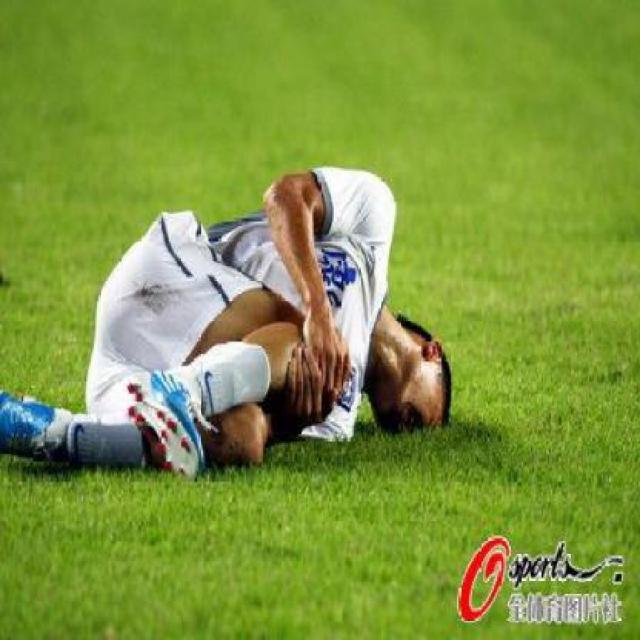fall: (0, 143, 455, 494)
